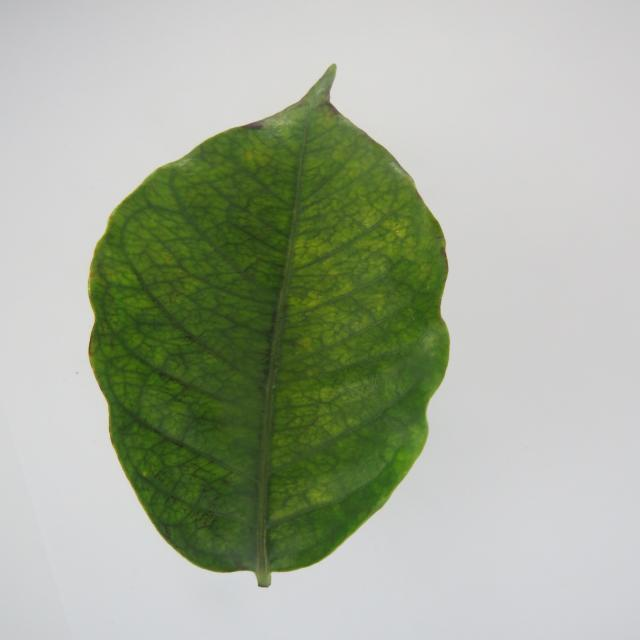DeficienciaNutricional-Hierro: (90, 65, 448, 586)
